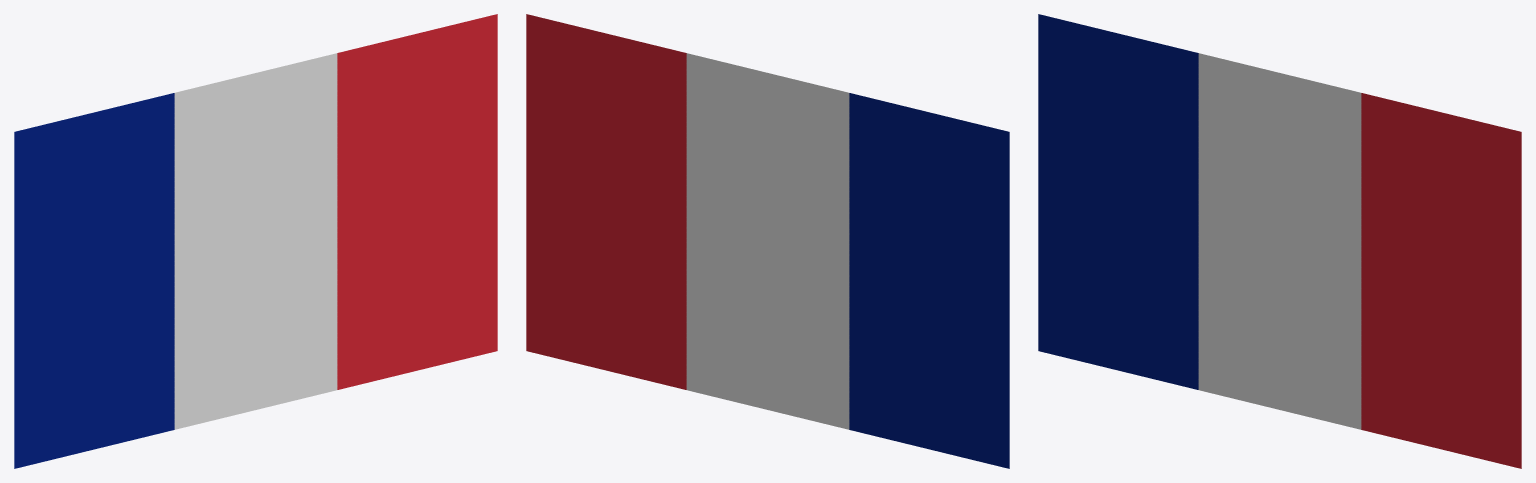
File: BanderaFrancia.glb
The picture shows the model from 3 angles, left to right: view 1: azimuth 30°, elevation 25°; view 2: azimuth 150°, elevation 25°; view 3: azimuth 330°, elevation 25°; orthographic projection.
Visible parts, largest first — view 1: Flag.022; view 2: Flag.022; view 3: Flag.022.
Part boxes in pixels (x1,y1,x2,y2): Flag.022: (14,14,497,468); Flag.022: (526,14,1009,468); Flag.022: (1038,14,1521,468).
Bounding box in the file's own units: 4.2 × 2.8 × 1.22e-07.
Materials: 1 (1 with a texture image).
